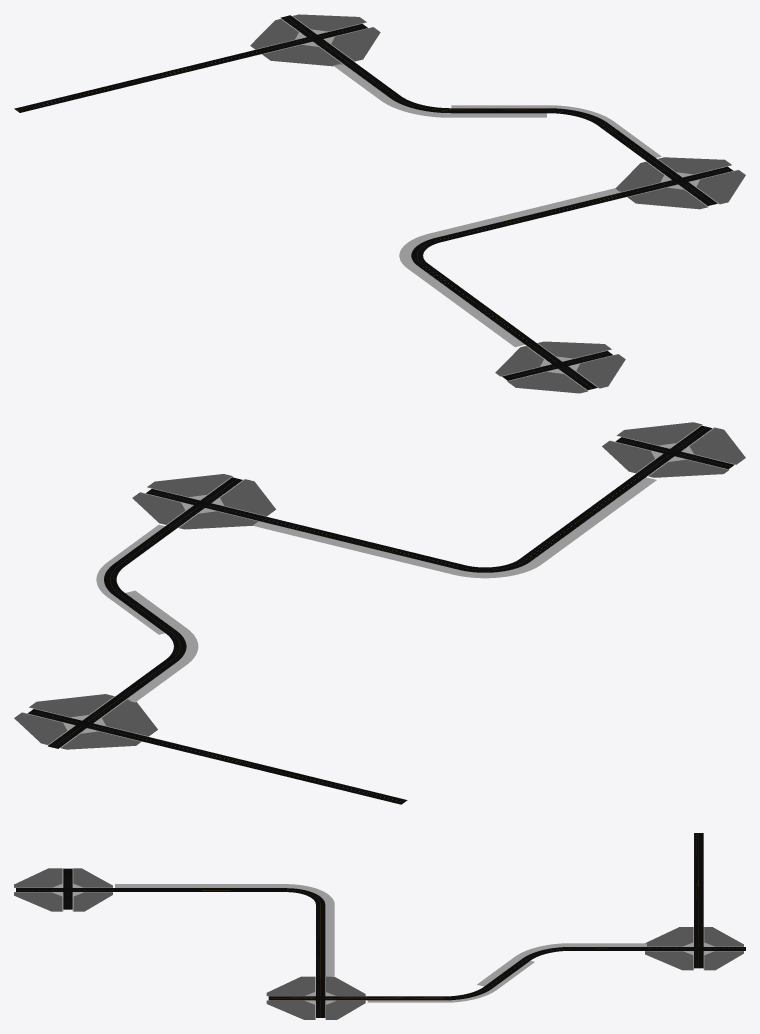
File: race7.fbx
3 renders of one model, top to bottom at view 1: azimuth 30°, elevation 25°; view 2: azimuth 150°, elevation 25°; view 3: azimuth 270°, elevation 25°, orthographic. The views are drawn at different scales.
Parts seen in each view (by area): view 1: pPlane137; view 2: pPlane137; view 3: pPlane137.
Part boxes in pixels (box(x1,y1,x2,y2)): pPlane137: box(14, 14, 745, 393); pPlane137: box(14, 422, 745, 804); pPlane137: box(14, 833, 745, 1019).
Size of the model in its own units: 73548 by 2.09e-12 by 121807.
